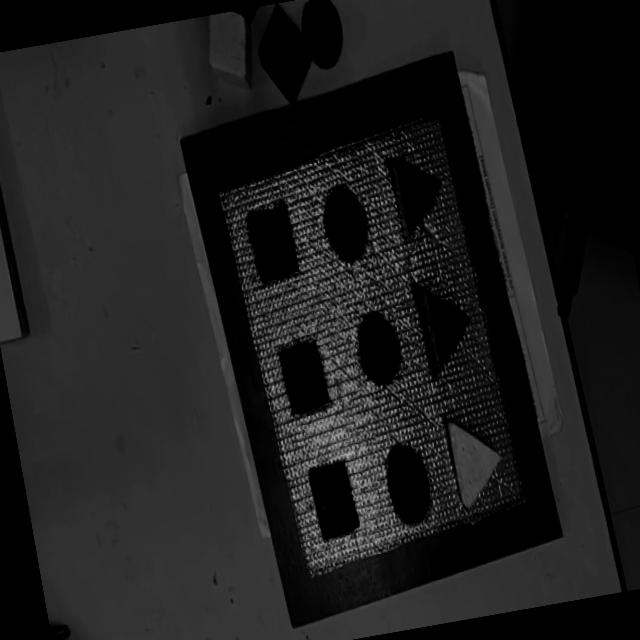bcircle: (296, 0, 348, 72)
btriangle: (386, 148, 451, 242)
mtcircle: (380, 440, 438, 528), (318, 181, 374, 264), (352, 306, 406, 388)
mtcube: (243, 198, 302, 285), (275, 335, 334, 418), (306, 456, 362, 542)
rcube: (251, 0, 319, 109)
rtriangle: (415, 281, 481, 379)
wb: (181, 54, 560, 627)
ycube: (202, 9, 249, 61)
ytriangle: (444, 408, 512, 512)
